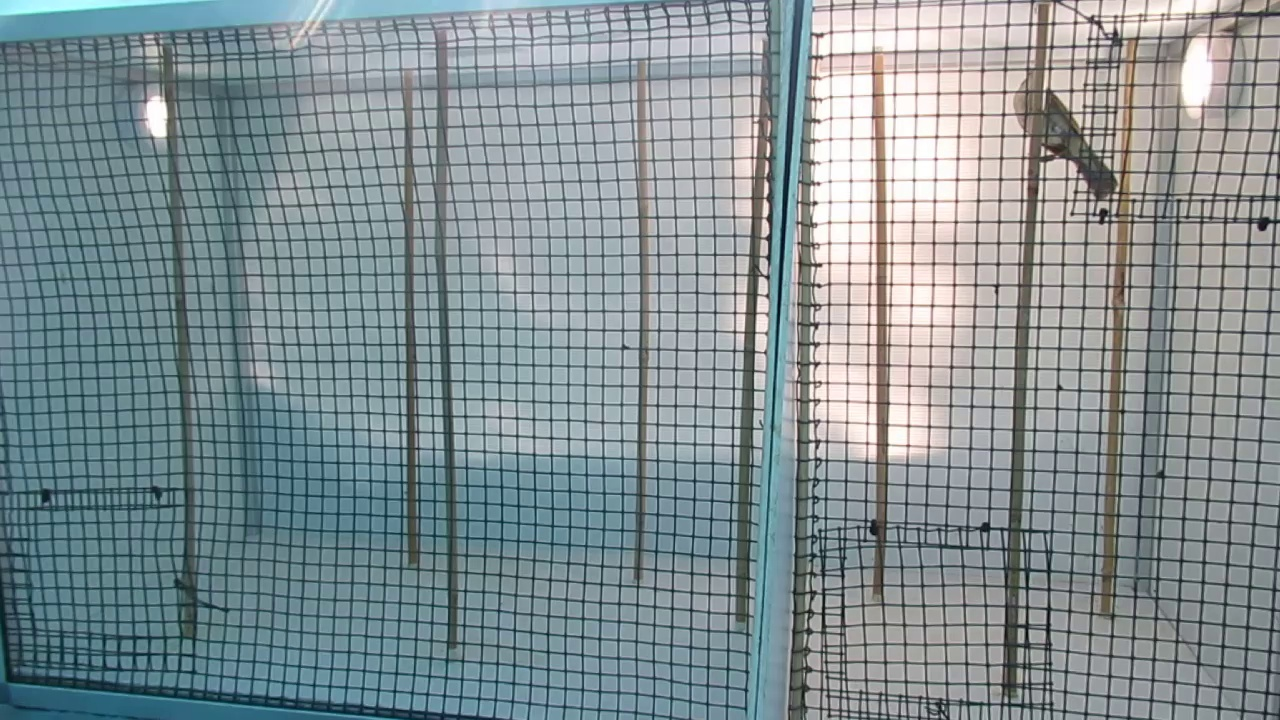bird: (1012, 65, 1120, 194)
stick: (1002, 13, 1050, 684), (733, 46, 777, 617), (159, 49, 200, 630), (1095, 45, 1136, 605), (431, 37, 460, 643), (866, 59, 890, 588), (401, 78, 421, 564), (634, 62, 652, 577)
